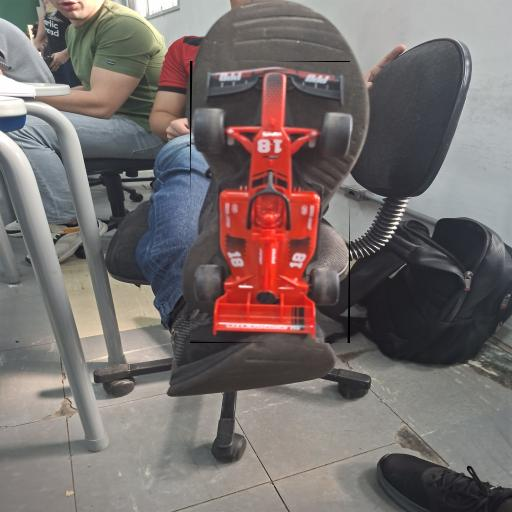carro: (190, 63, 350, 341)
